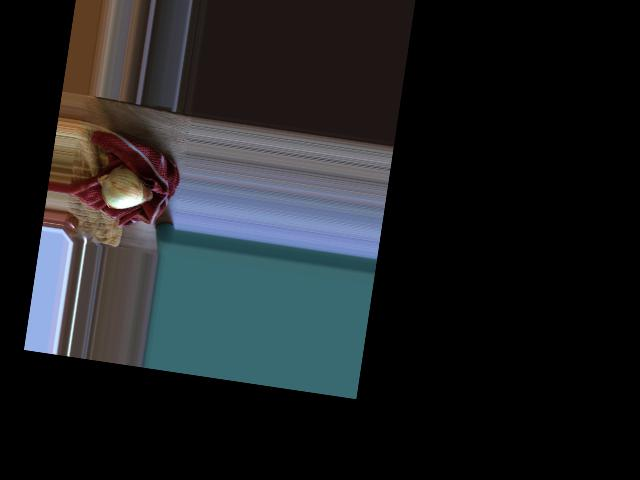onion: (97, 162, 153, 216)
